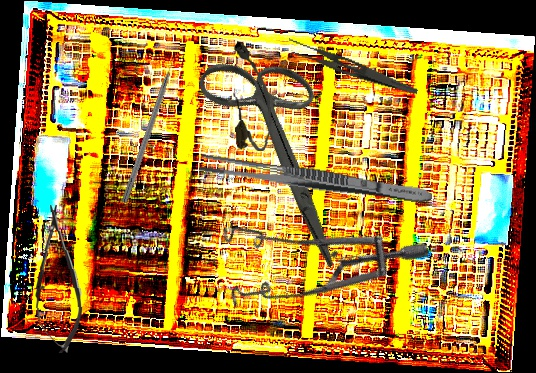Cannula: (227, 40, 275, 153)
Dressing Forceps: (198, 152, 434, 208), (283, 36, 423, 96)
Hook Surgical: (121, 52, 181, 204)
Iris Scissors: (152, 30, 410, 269)
Micro Scissor: (29, 203, 85, 355)
Speculum: (195, 141, 432, 358)
